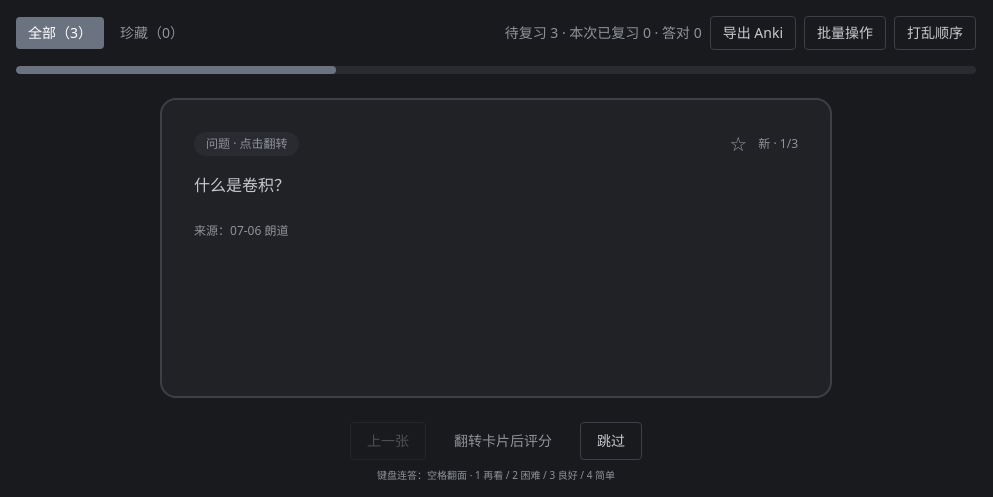
Test: FlashcardReviewView — navigation and favorites › walks the deck with 跳过/上一张 and resets the flip state
This screenshot has width=993, height=497.
Check: the text "什么是卷积？" is shown, box [194,174,290,196]
Check: the text "新 · 1/3" is shown, box [758,136,798,152]
Click the button "跳过": [611, 441] box [580,422,642,460]
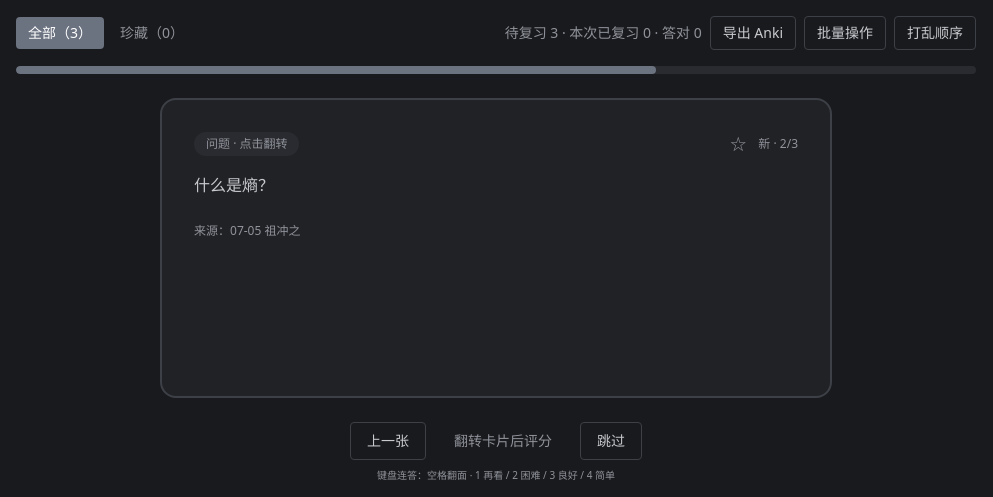
Check: the text "什么是熵？" is shown, box [194,174,274,196]
Check: the text "新 · 2/3" is shown, box [758,136,798,152]
Click the button "上一张": [388, 441] box [350,422,426,460]
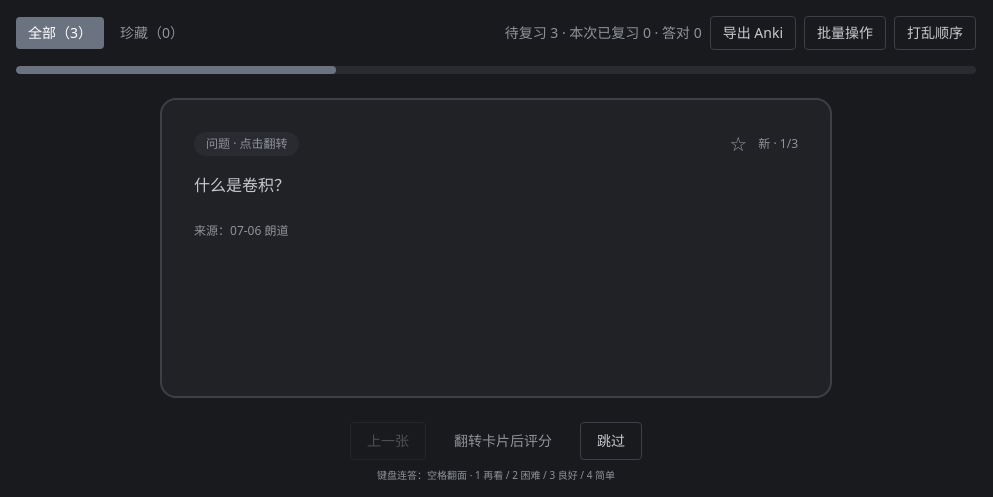
Check: the text "什么是卷积？" is shown, box [194,174,290,196]
Check: the button "上一张" is disabled, box [350,422,426,460]
Click the button "跳过": [611, 441] box [580,422,642,460]
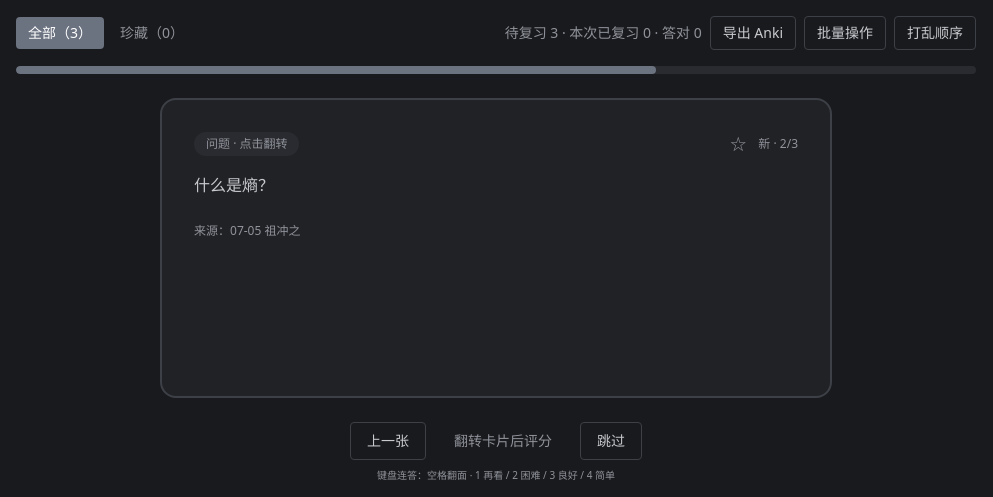
Click the button "跳过": [611, 441] box [580,422,642,460]
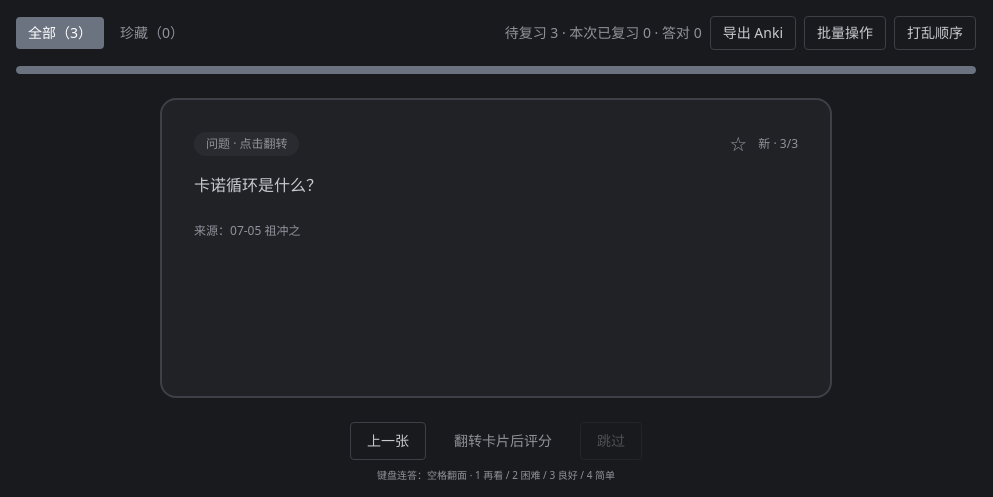
Check: the button "跳过" is disabled, box [580,422,642,460]
